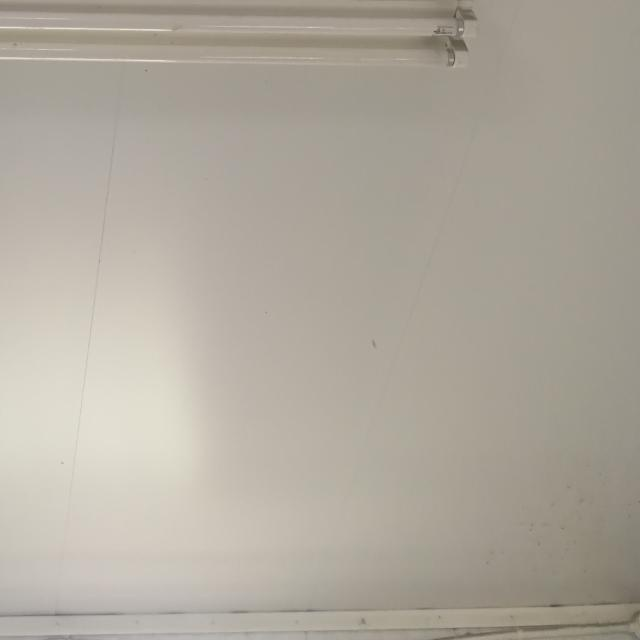fluorescent tube: (0, 0, 492, 95)
